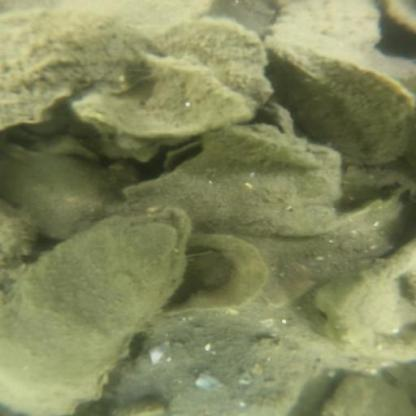Oyster- Indeterminate: (0, 207, 195, 408), (73, 56, 262, 166)
Oyster-Closed: (121, 126, 339, 237), (114, 313, 325, 414), (265, 20, 409, 161), (3, 5, 151, 122), (158, 16, 271, 108), (4, 147, 110, 236), (271, 0, 388, 57), (192, 125, 323, 170), (57, 1, 209, 32), (325, 373, 412, 403), (381, 0, 416, 49)
